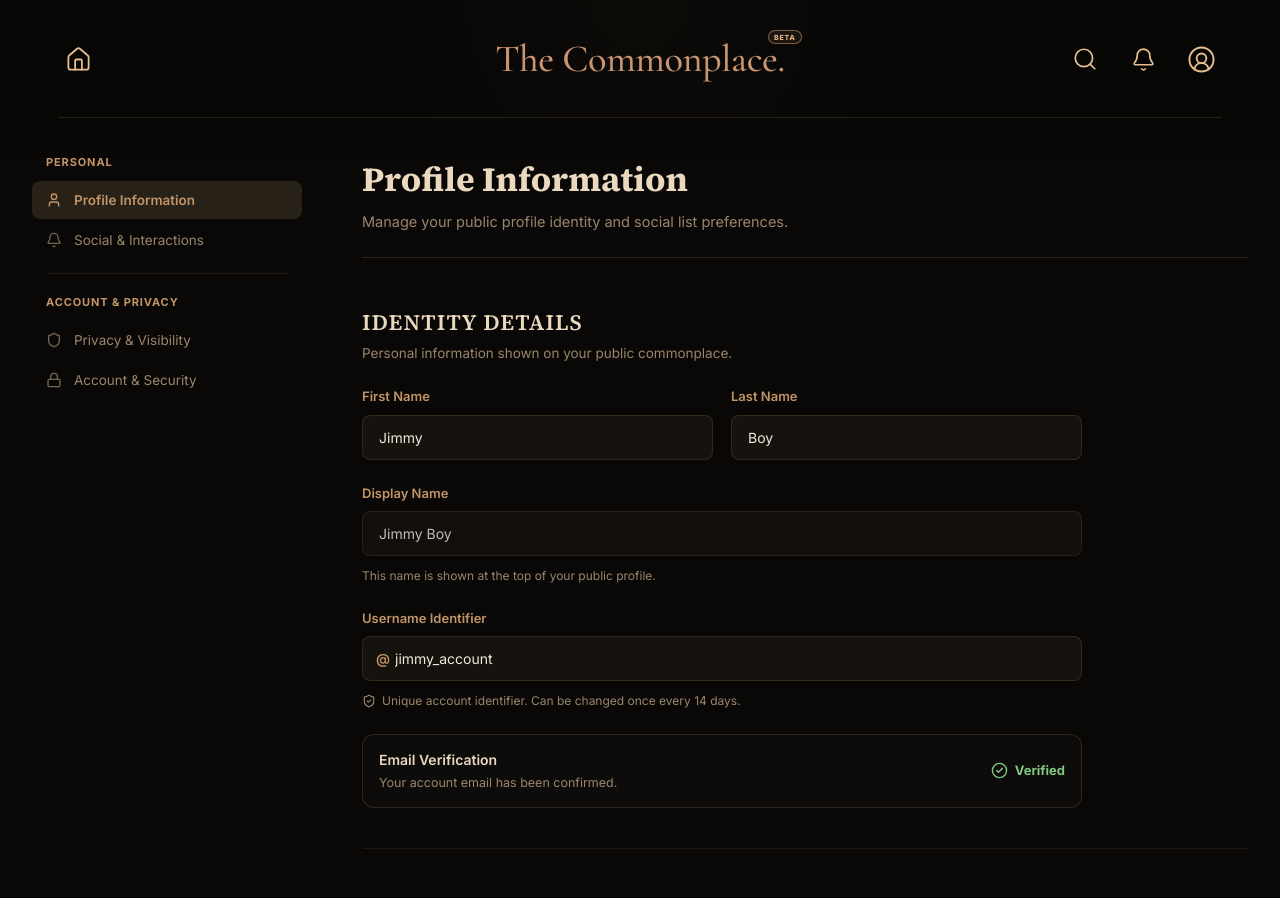
it: application shell › offers deactivation from the permanent deletion dialog
Click the button "Account & Security". click: (167, 380)
box: [32, 361, 302, 399]
(page scrolled)
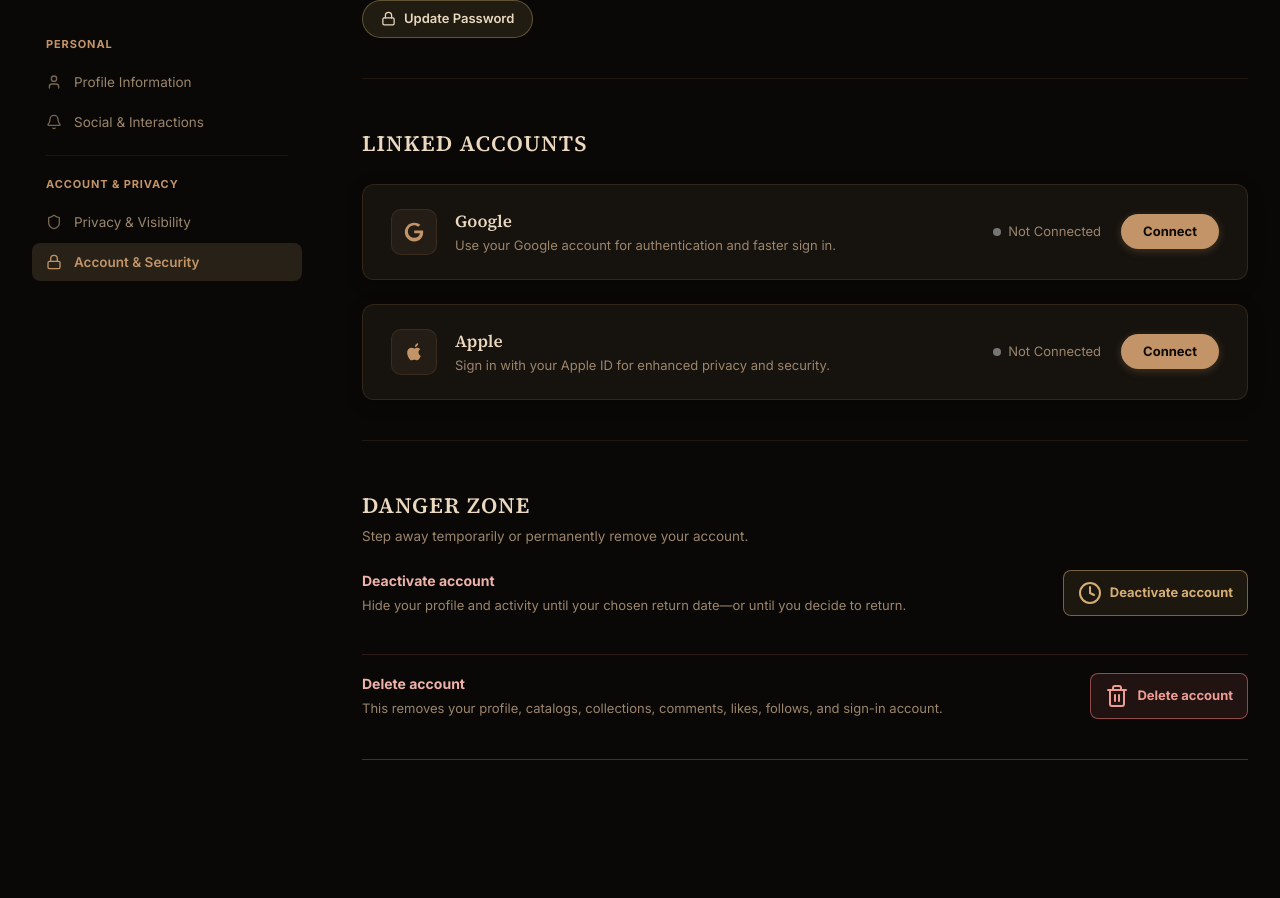
Click the button "Delete account". click: (1169, 696)
box: [1090, 673, 1248, 719]
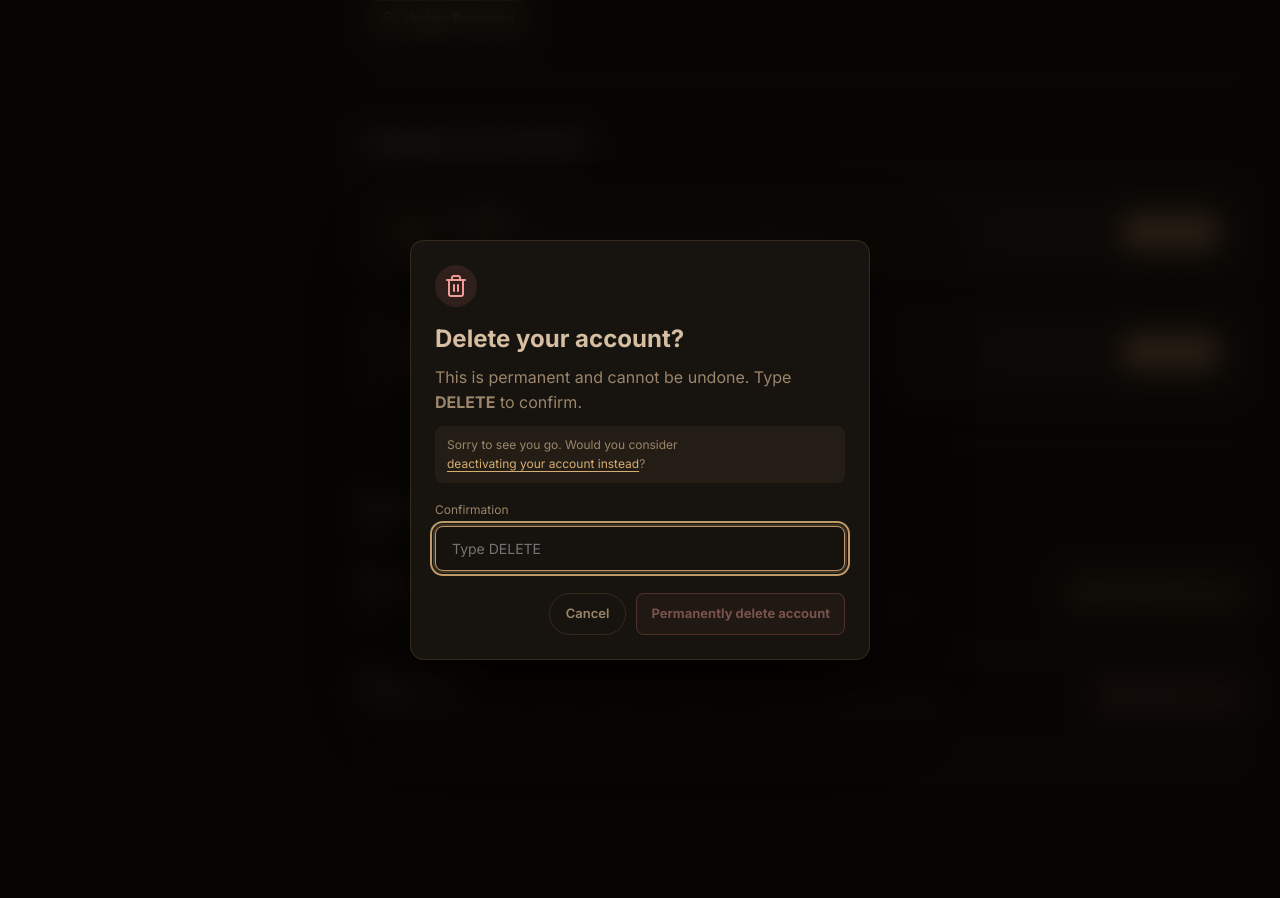
Click the button "deactivating your account instead". click: (543, 464)
box: [447, 454, 639, 473]
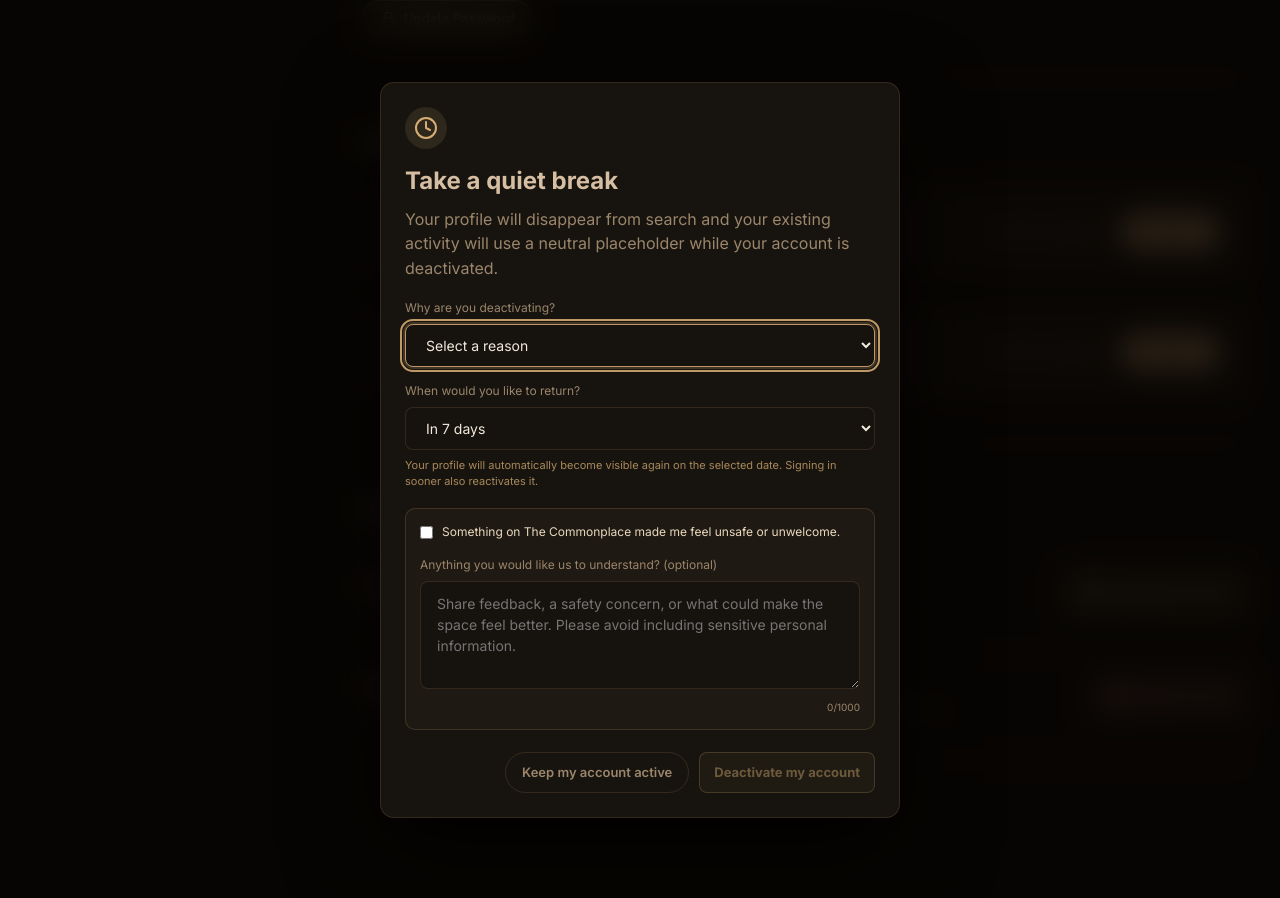
Expected: the heading "Delete your account?" is gone
Expected: the dialog "Take a quiet break" is shown, [380, 82, 900, 818]
